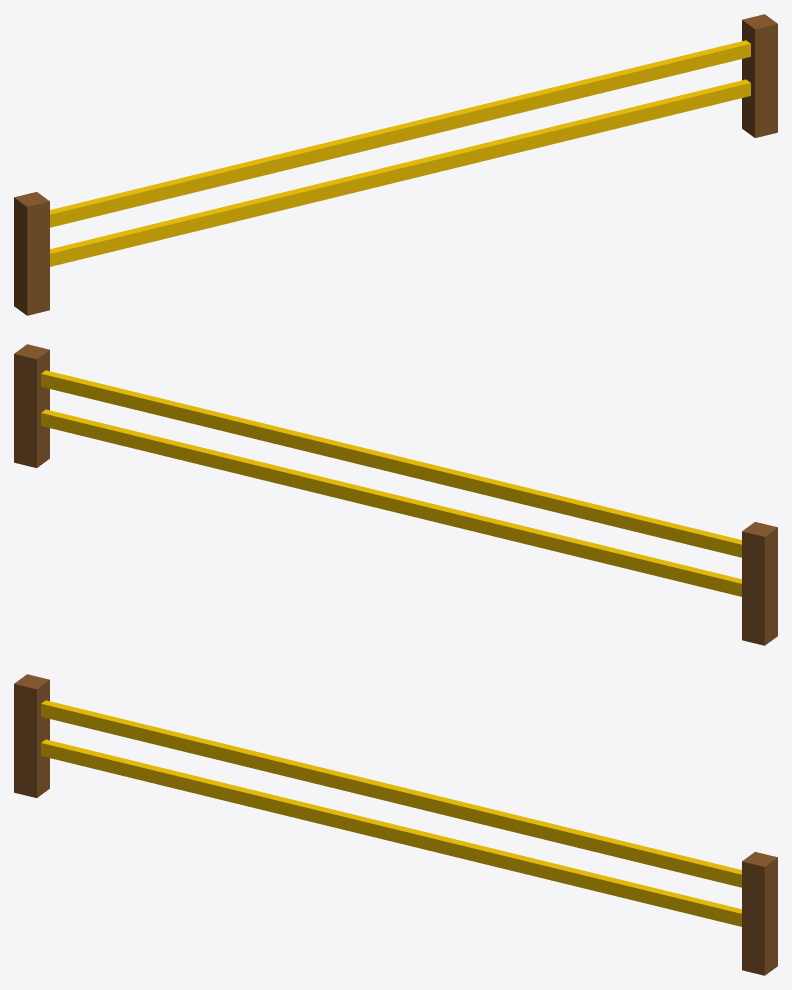
Rendered from fence.glb.
3 views of the same model, one above another, from view 1: azimuth 30°, elevation 25°; view 2: azimuth 150°, elevation 25°; view 3: azimuth 330°, elevation 25° (orthographic).
Bounding box in the file's own units: 7.22 × 1 × 0.22.
